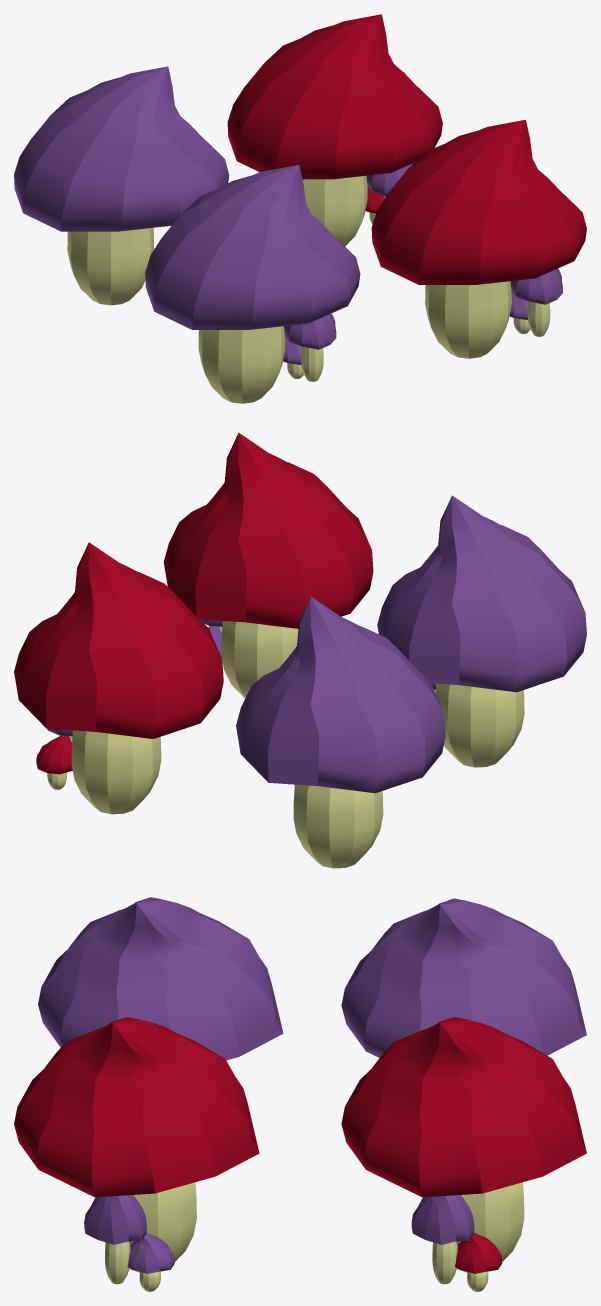
File: _hroomThick.fbx
3 renders of one model, top to bottom at view 1: azimuth 30°, elevation 25°; view 2: azimuth 150°, elevation 25°; view 3: azimuth 270°, elevation 25°, orthographic. The views are drawn at different scales.
Visible parts, largest first — view 1: pSphere25, pSphere24, pSphere7, pSphere23; view 2: pSphere23, pSphere7, pSphere25, pSphere24; view 3: pSphere23, pSphere24, pSphere25, pSphere7.
Part boxes in pixels (x1,y1,x2,y2): pSphere25: (145,165,360,403); pSphere24: (371,119,586,358); pSphere7: (14,66,229,305); pSphere23: (227,14,442,246); pSphere23: (14,542,223,814); pSphere7: (236,596,445,868); pSphere25: (377,495,586,767); pSphere24: (163,432,373,698); pSphere23: (341,1017,586,1291); pSphere24: (14,1017,259,1291); pSphere25: (38,897,283,1060); pSphere7: (341,898,586,1057).
Size of the model in its own units: 9.41 by 5.25 by 10.34.
